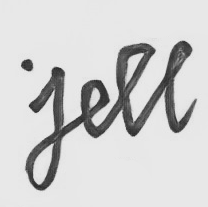e: (77, 78, 111, 140)
j: (18, 57, 67, 192)
l: (112, 41, 157, 139), (162, 38, 199, 136)
